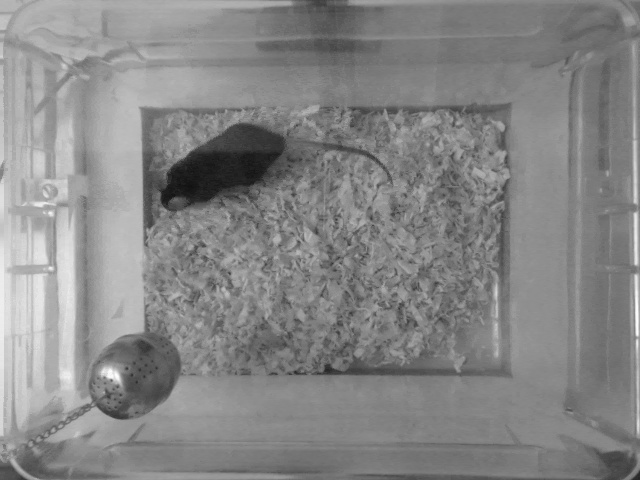mice: (159, 122, 394, 215)
